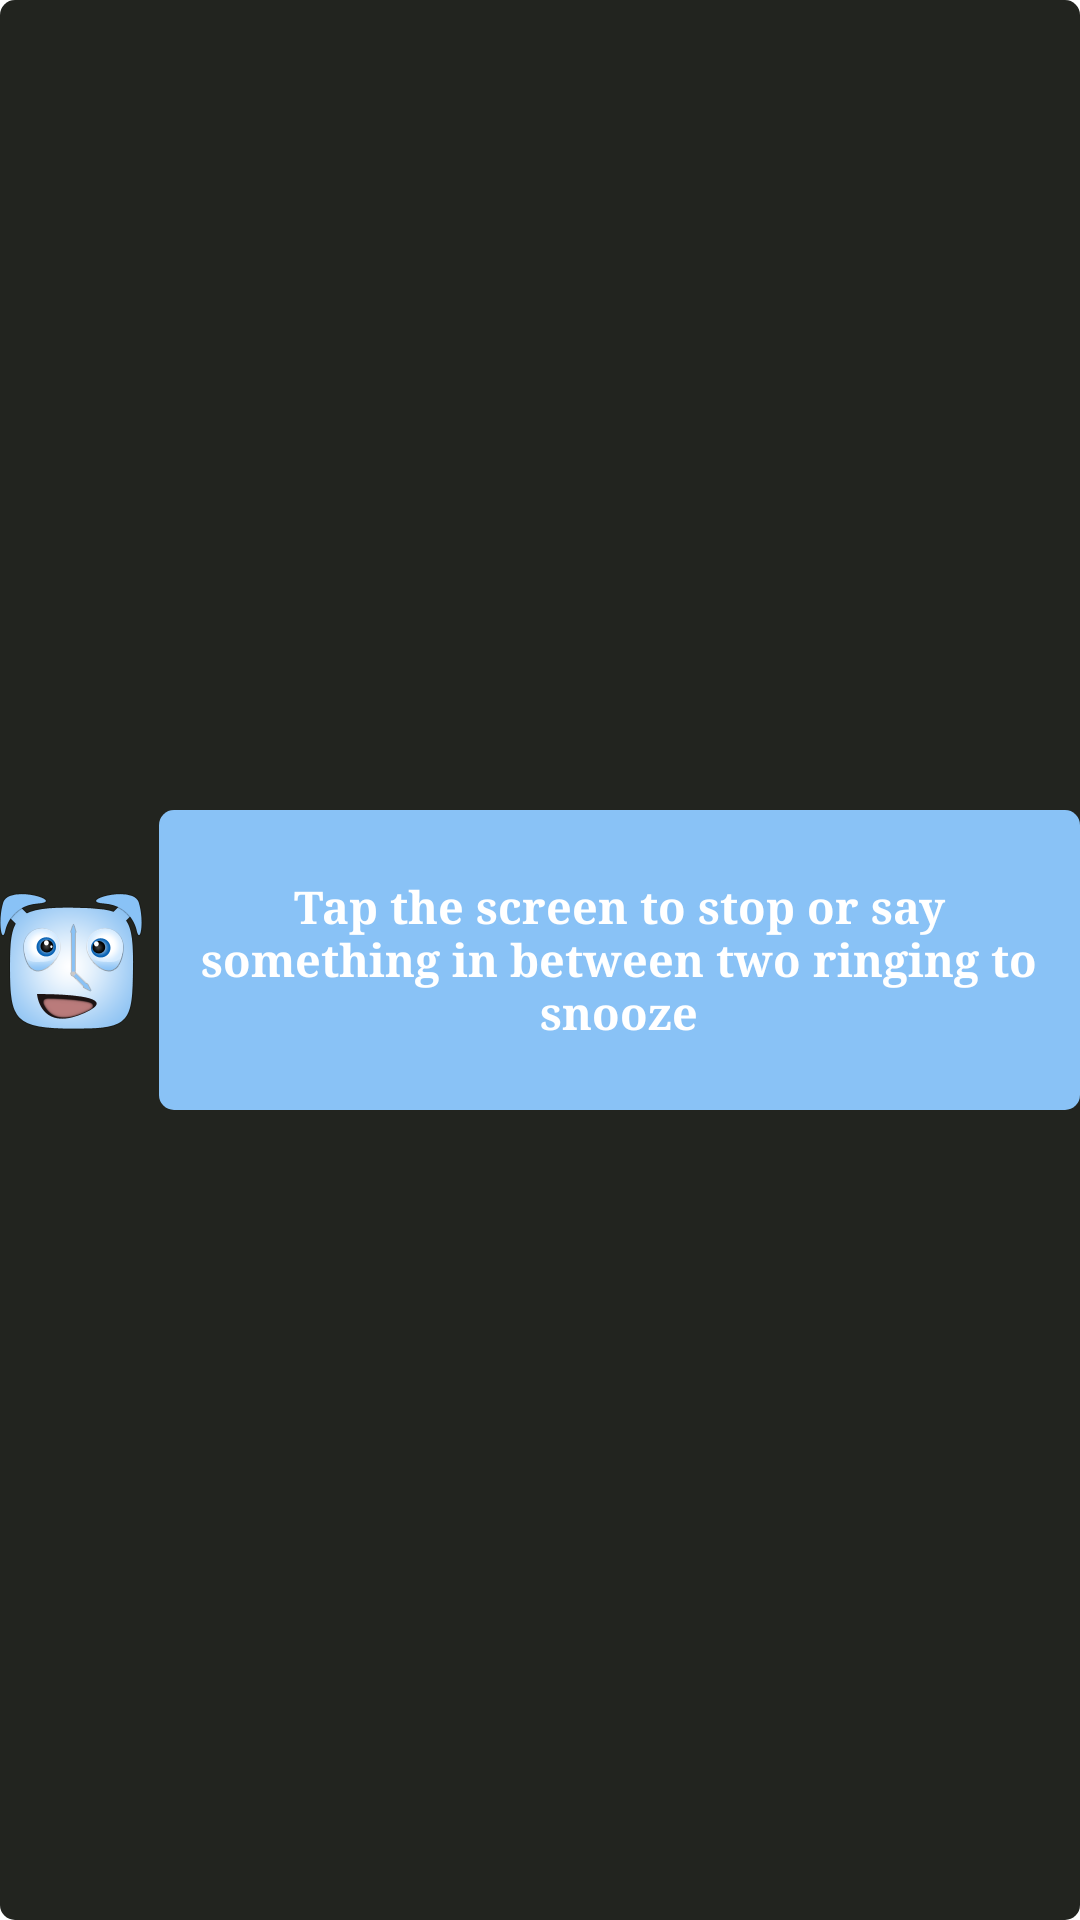

Point at icon controls on the screen. Image size 1080px x 1920px, points as [x,y].
smile: [71,961]
